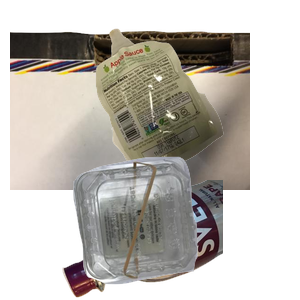cardboard: (10, 29, 250, 209)
glass: (60, 180, 300, 300)
plastic: (71, 154, 300, 300)
trash: (93, 26, 300, 200)
